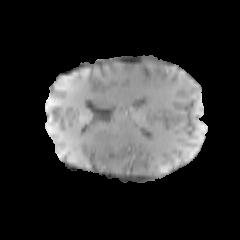glioma: (86, 140, 159, 176)
